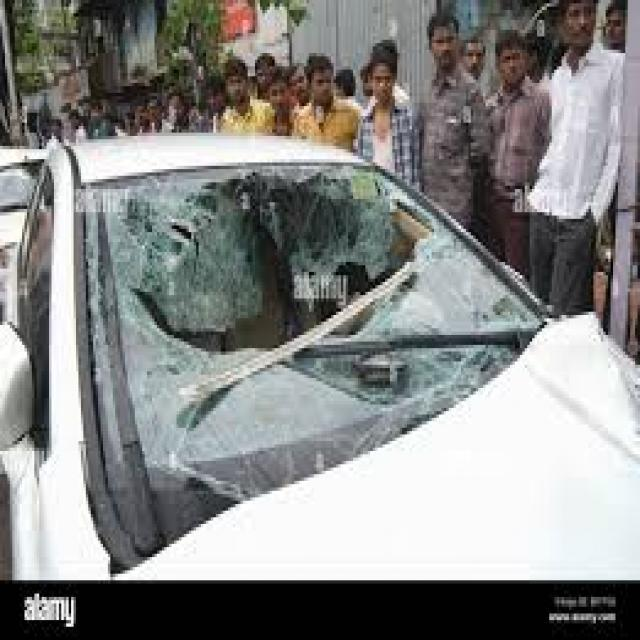damaged-windscreen: (68, 160, 562, 490)
